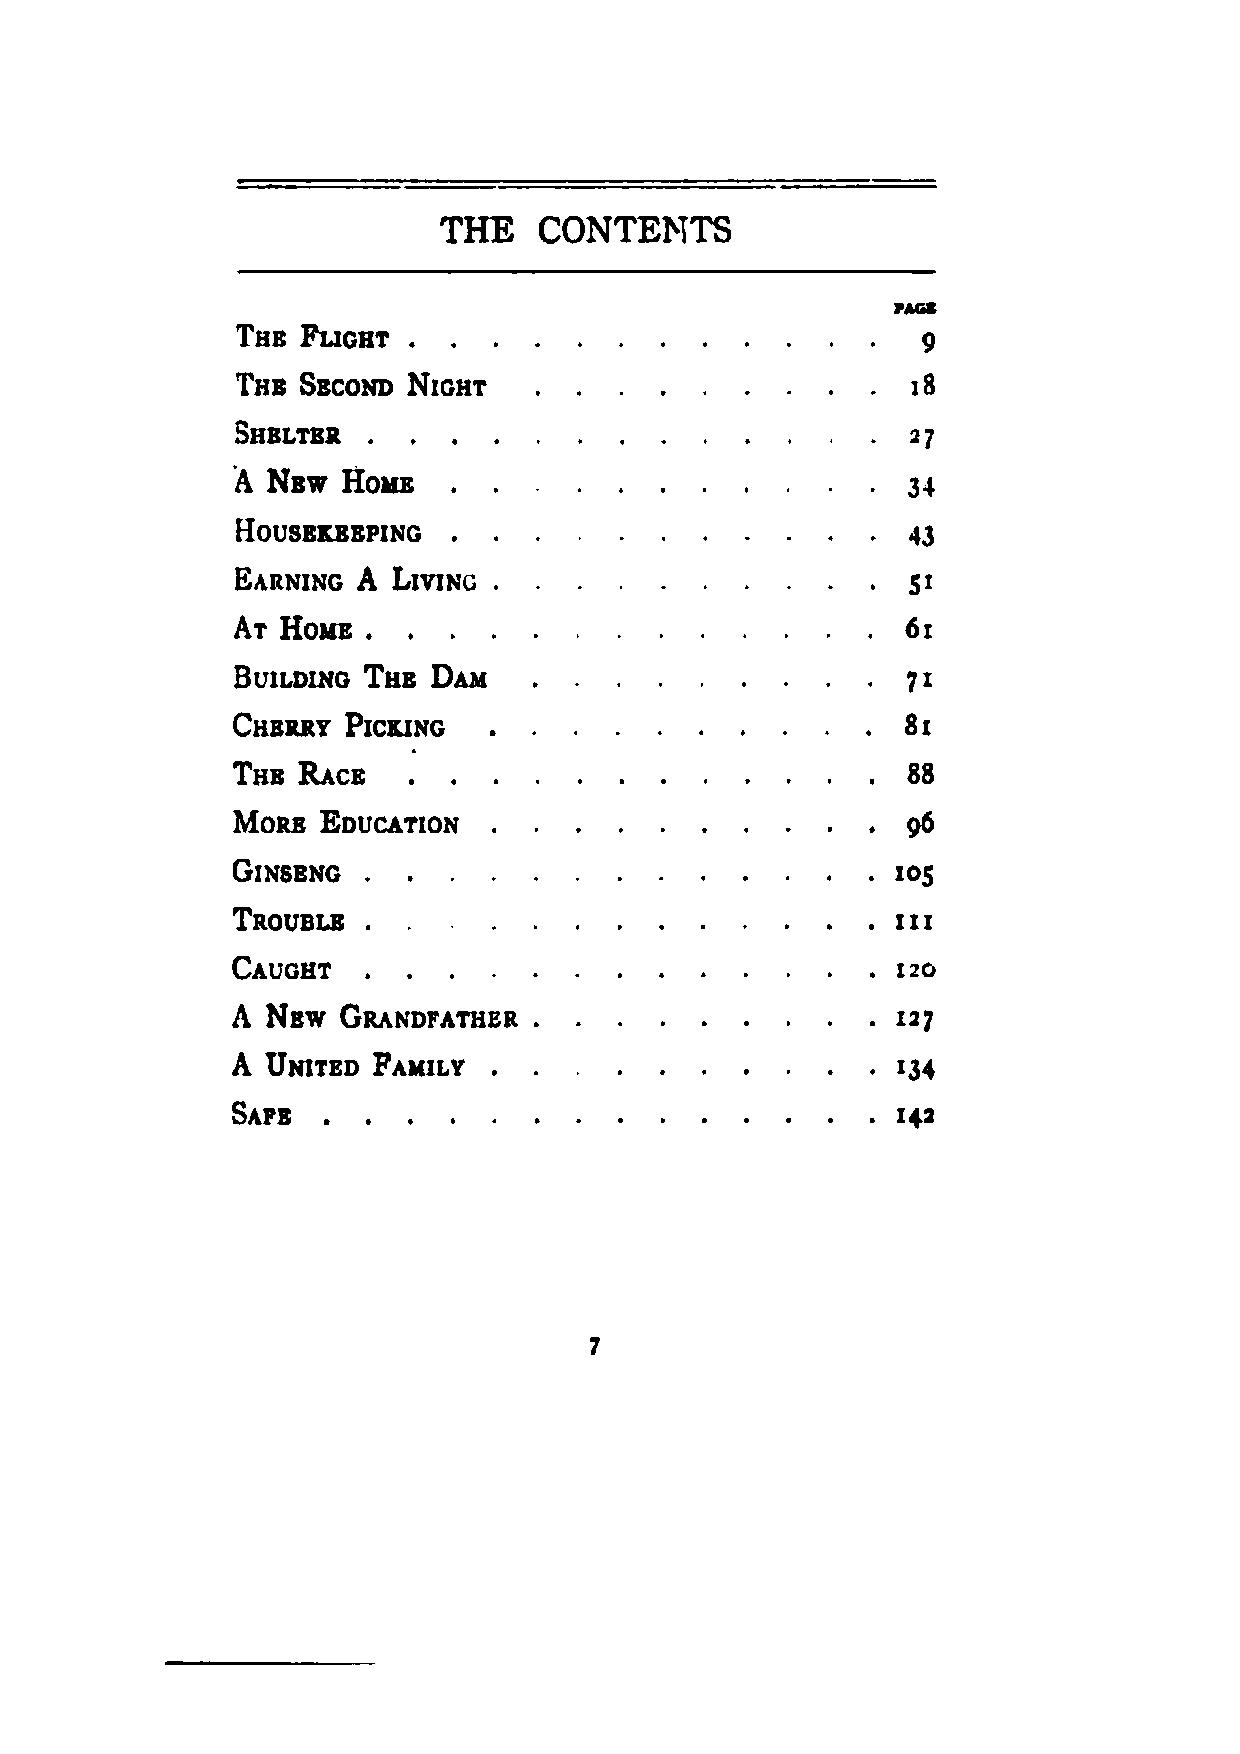TOC_chapter: (227, 1001, 519, 1031), (235, 369, 493, 400), (232, 662, 488, 691), (231, 564, 478, 593), (231, 805, 462, 836), (229, 1049, 466, 1079), (231, 464, 417, 497), (229, 711, 447, 738), (231, 515, 424, 544), (234, 321, 391, 352), (229, 758, 372, 788), (232, 612, 356, 643), (229, 905, 350, 935), (231, 854, 340, 884), (228, 951, 335, 981), (229, 419, 346, 446), (228, 1099, 294, 1127)
TOC_pagenumber: (892, 1099, 935, 1130), (894, 1055, 937, 1084), (891, 1007, 937, 1033), (892, 958, 938, 982), (903, 474, 942, 502), (902, 613, 938, 641), (905, 370, 939, 399), (892, 862, 935, 884), (905, 568, 935, 599), (894, 913, 938, 933), (903, 667, 934, 695), (903, 709, 931, 739), (905, 811, 935, 839), (905, 760, 937, 786), (905, 523, 938, 549), (906, 424, 939, 448), (914, 327, 939, 356)
chapter: (437, 213, 731, 246)
